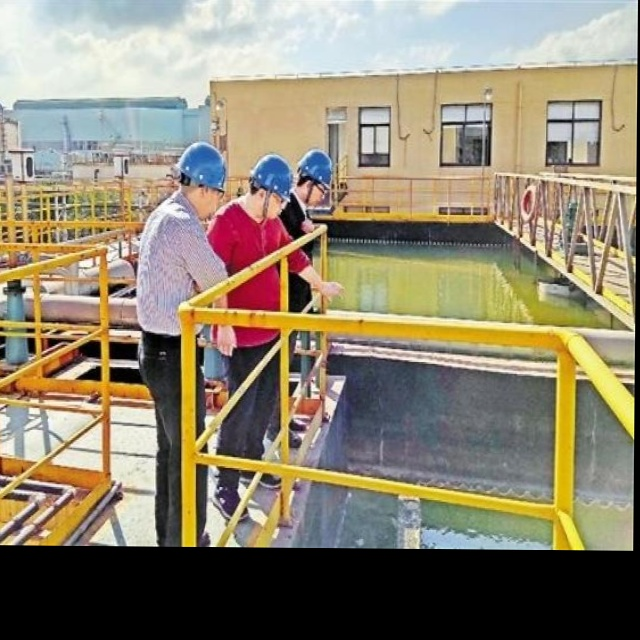Con_Casco: (177, 140, 225, 216), (247, 153, 293, 219)
